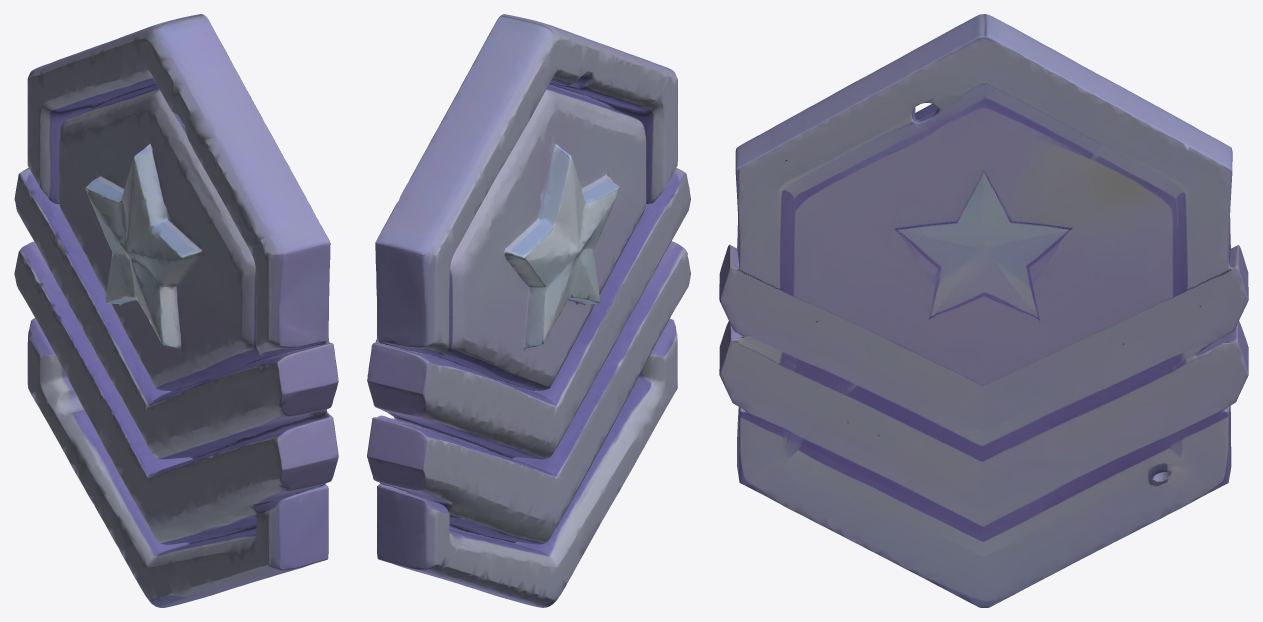
The model's file is prata.glb.
3 views of the same model, side by side, from view 1: azimuth 30°, elevation 25°; view 2: azimuth 150°, elevation 25°; view 3: azimuth 270°, elevation 25° (orthographic).
Parts seen in each view (by area): view 1: tripo_node_b6fb75f7-247d-46fd-ae92-1129657ab448; view 2: tripo_node_b6fb75f7-247d-46fd-ae92-1129657ab448; view 3: tripo_node_b6fb75f7-247d-46fd-ae92-1129657ab448.
Boxes of the visible parts, bbox=[...] form: tripo_node_b6fb75f7-247d-46fd-ae92-1129657ab448: bbox=[14, 14, 338, 607]; tripo_node_b6fb75f7-247d-46fd-ae92-1129657ab448: bbox=[367, 14, 690, 607]; tripo_node_b6fb75f7-247d-46fd-ae92-1129657ab448: bbox=[719, 14, 1248, 607].
Bounding box in the file's own units: 0.1425 × 0.9999 × 0.8355.
Materials: 1 (1 with a texture image).
